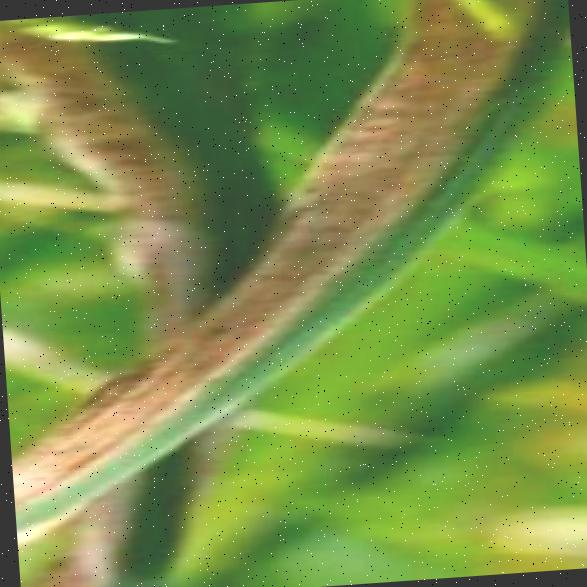Bacteria_Leaf_Blight: (301, 14, 543, 286)
